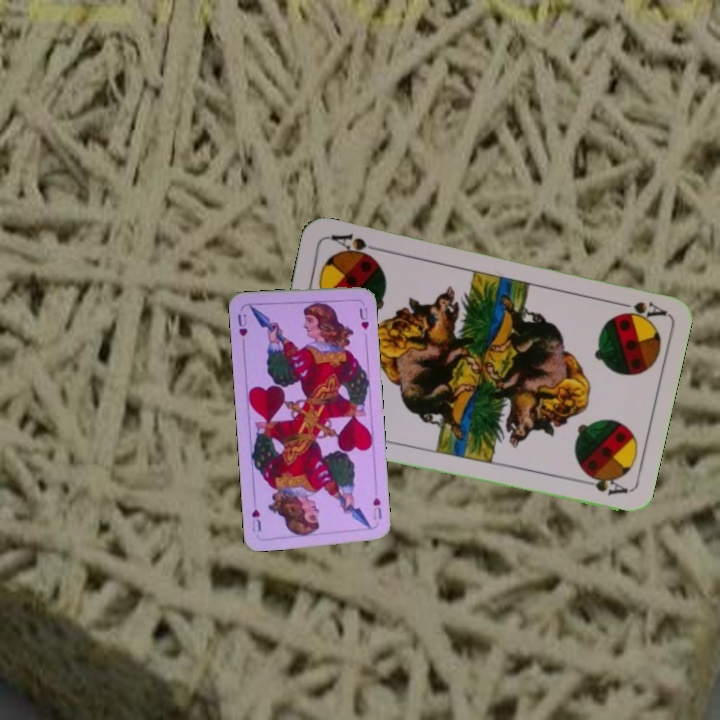HU: (234, 310, 250, 339), (369, 493, 384, 522)
SA: (609, 297, 668, 325)
